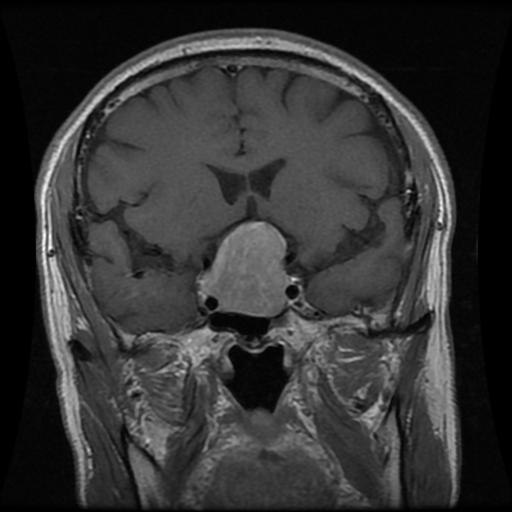Pituirity_tumour: (196, 220, 290, 315)
